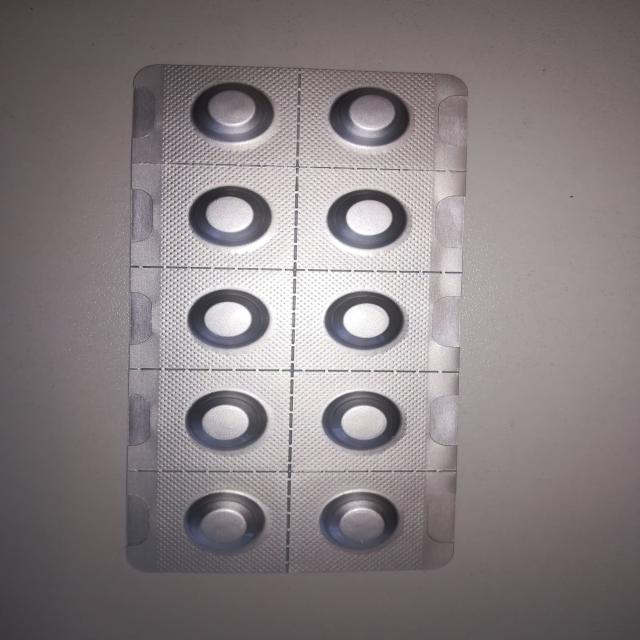Pill: (172, 382, 275, 462), (321, 79, 424, 152), (174, 286, 282, 353), (308, 486, 400, 556), (183, 182, 275, 252), (316, 387, 409, 455), (323, 189, 417, 256), (183, 78, 271, 145), (178, 489, 266, 556), (324, 291, 410, 354)
